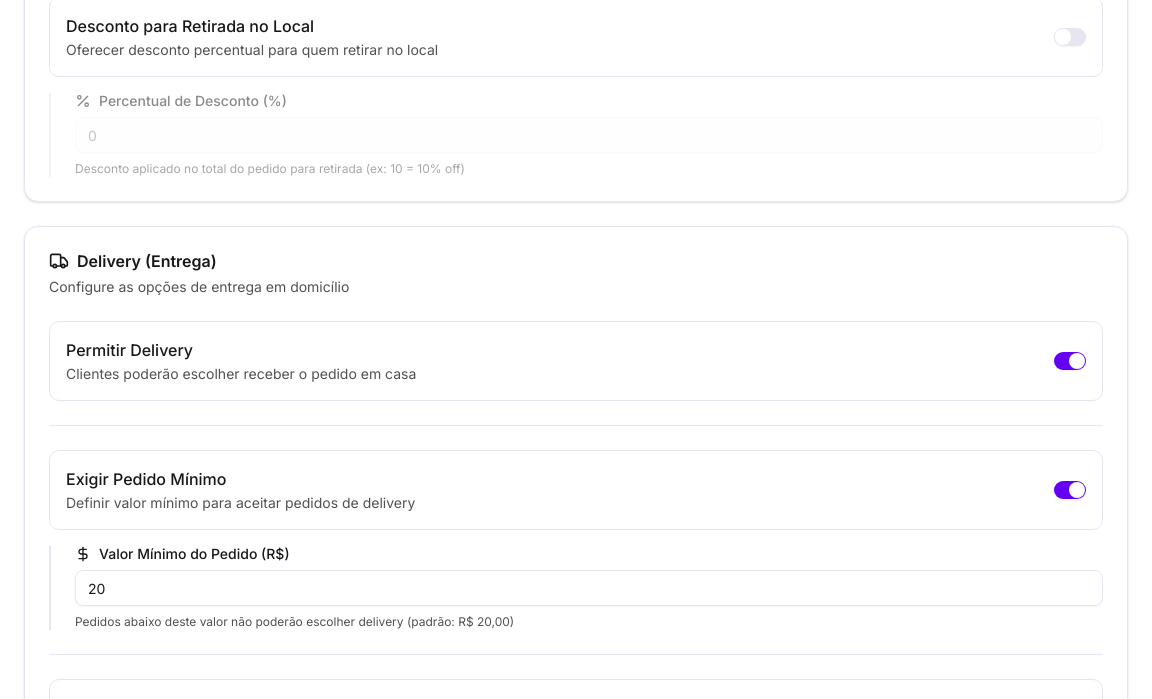
Test: DeliverySettingsPage - Configurações de Delivery e Retirada › should disable delivery fields when delivery is disabled
(page scrolled)
# Desabilitar delivery
Step 1. Click the switch named "Permitir Delivery" in the row of "Permitir Delivery" → (1070, 361), box x1=1054 y1=352 x2=1086 y2=370
(page scrolled)
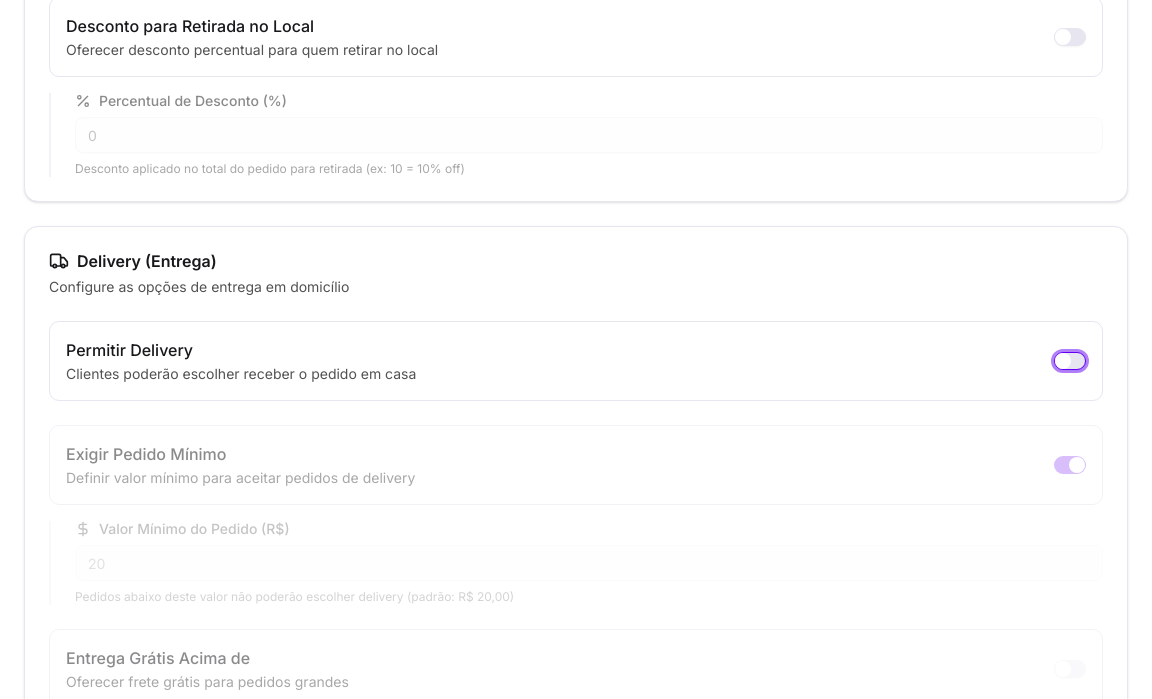
Expected: the switch named "Exigir Pedido Mínimo" in the row of "Exigir Pedido Mínimo" is disabled, x1=1054 y1=456 x2=1086 y2=474
